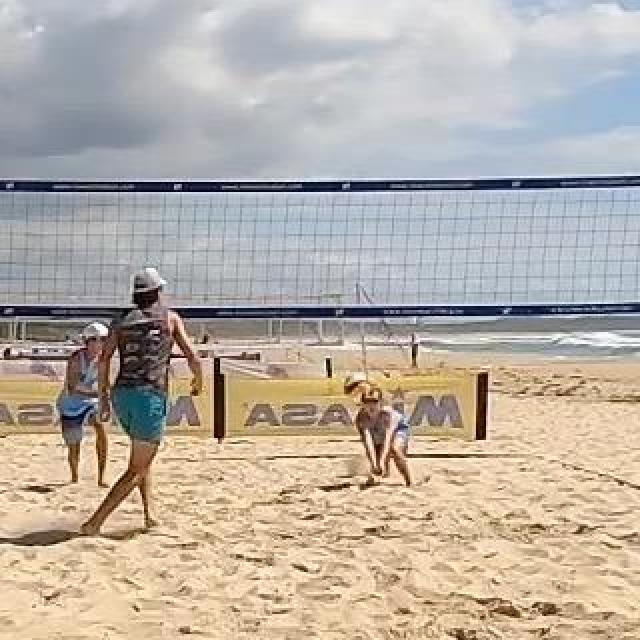volleyball: (343, 373, 371, 399)
